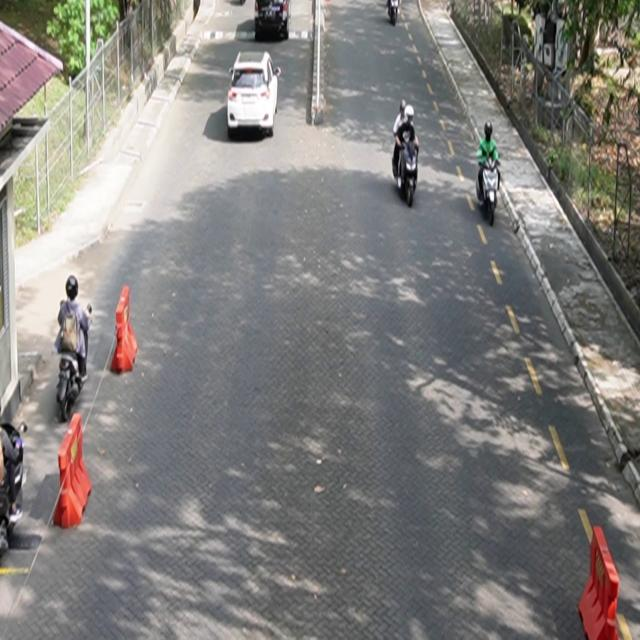car: (227, 51, 282, 138)
